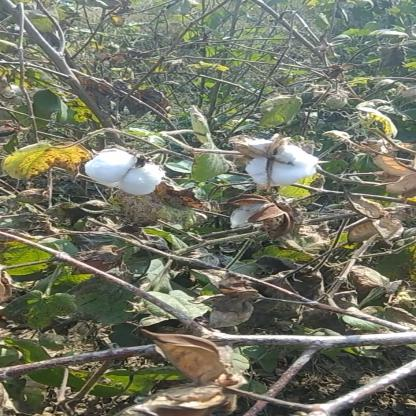cotton_ready: (210, 118, 332, 192), (83, 144, 164, 196)
